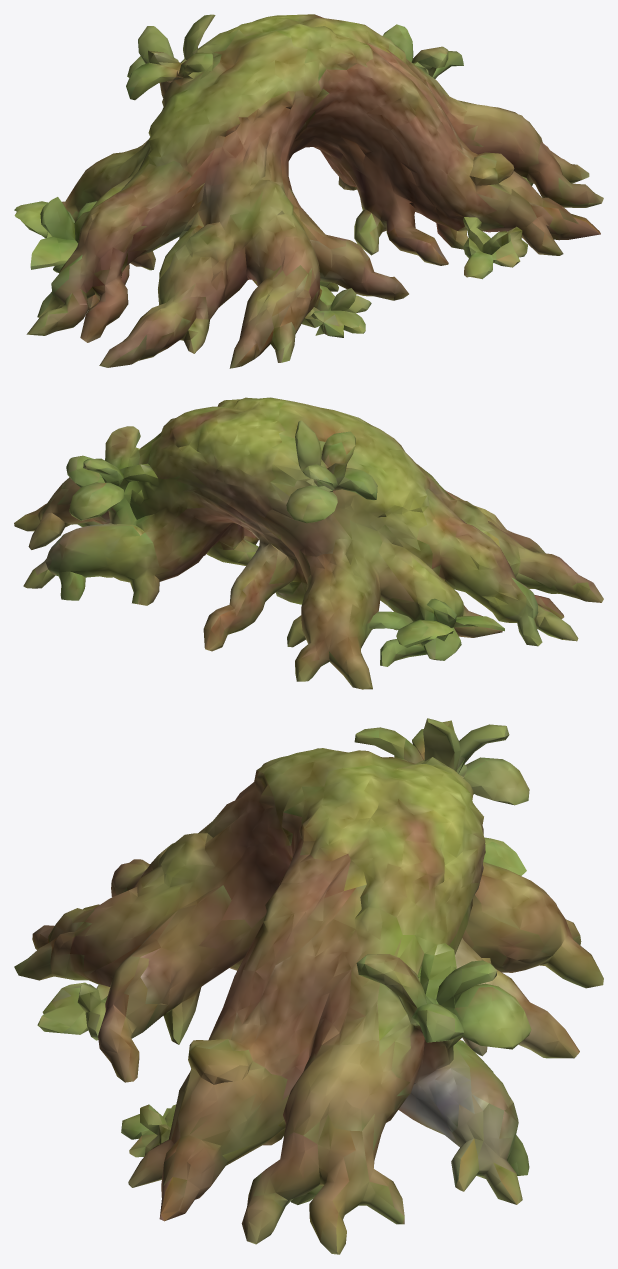
The model's file is raices_musgo.glb.
3 views of the same model, one above another, from view 1: azimuth 30°, elevation 25°; view 2: azimuth 150°, elevation 25°; view 3: azimuth 270°, elevation 25° (orthographic). The views are drawn at different scales.
Parts seen in each view (by area): view 1: raices_musgo_malla; view 2: raices_musgo_malla; view 3: raices_musgo_malla.
Part boxes in pixels (x1,y1,x2,y2): raices_musgo_malla: (14, 14, 603, 368); raices_musgo_malla: (14, 397, 603, 689); raices_musgo_malla: (14, 718, 603, 1254).
Size of the model in its own units: 0.3875 by 0.1429 by 0.2445.
Materials: 1 (1 with a texture image).
